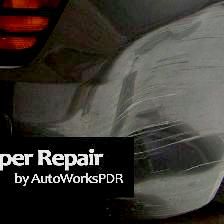bumper_dent: (94, 2, 223, 213)
